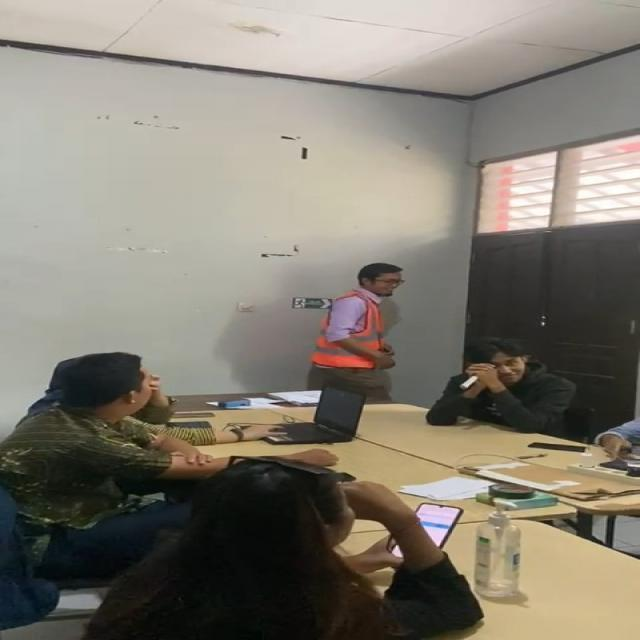no-helmet: (198, 456, 356, 575), (50, 350, 155, 412), (461, 328, 528, 378), (362, 258, 406, 296)
no-vest: (0, 402, 171, 514), (432, 368, 573, 429)
vest: (308, 289, 398, 370)
